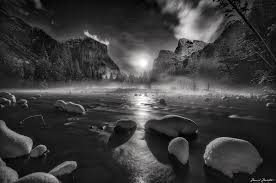moon: (135, 55, 150, 70)
